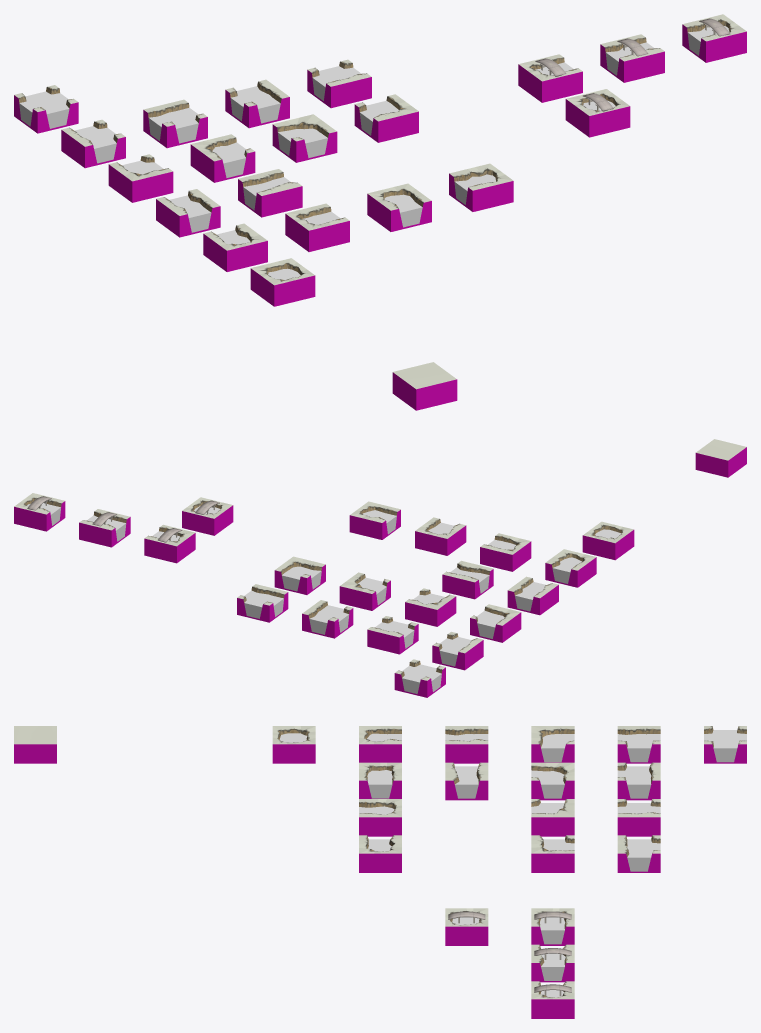
Rendered from Land.fbx.
3 renders of one model, top to bottom at view 1: azimuth 30°, elevation 25°; view 2: azimuth 150°, elevation 25°; view 3: azimuth 270°, elevation 25°, orthographic. The views are drawn at different scales.
Visible parts, largest first — view 1: WT-0, WT-9, BR-S-0, LD, WT-4, WT-3, BR-S-3, WT-8, WT-6, BR-S-2, WT-2, WT-12 (+9 smaller); view 2: WT-0, BR-S-3, BR-S-0, LD, WT-1, WT-10, WT-4, WT-6, WT-2, WT-7, BR-S-1, WT-14 (+9 smaller); view 3: WT-8, WT-0, BR-S-0, WT-5, WT-11, BR-S-1, LD, WT-7, WT-3, WT-6, BR-S-2, BR-S-3 (+9 smaller).
Part boxes in pixels (box(x1,y1,x2,y2)): WT-0: box(250, 258, 315, 306); WT-9: box(272, 114, 337, 162); BR-S-0: box(565, 89, 630, 137); LD: box(392, 362, 457, 410); WT-4: box(449, 163, 513, 211); WT-3: box(367, 183, 431, 231); BR-S-3: box(682, 14, 746, 62); WT-8: box(190, 134, 255, 182); WT-6: box(238, 169, 302, 217); BR-S-2: box(600, 34, 664, 82); WT-2: box(285, 203, 349, 251); WT-12: box(143, 99, 207, 148); WT-0: box(582, 521, 634, 560); BR-S-3: box(14, 493, 65, 531); BR-S-0: box(182, 497, 233, 535); LD: box(695, 439, 746, 477); WT-1: box(545, 549, 596, 587); WT-10: box(274, 556, 325, 594); WT-4: box(349, 501, 400, 539); WT-6: box(442, 560, 493, 599); WT-2: box(480, 533, 531, 571); WT-7: box(470, 604, 521, 642); BR-S-1: box(144, 524, 195, 563); WT-14: box(237, 584, 288, 622); WT-8: box(531, 762, 574, 800); WT-0: box(272, 726, 315, 763); BR-S-0: box(445, 908, 488, 945); WT-5: box(445, 726, 488, 763); WT-11: box(617, 726, 660, 763); BR-S-1: box(531, 908, 574, 945); LD: box(14, 726, 56, 763); WT-7: box(531, 726, 574, 762); WT-3: box(359, 799, 401, 836); WT-6: box(445, 762, 488, 800); BR-S-2: box(531, 944, 574, 982); BR-S-3: box(531, 981, 574, 1018).
Bounding box in the file's own units: 7500 × 295 × 8500.
